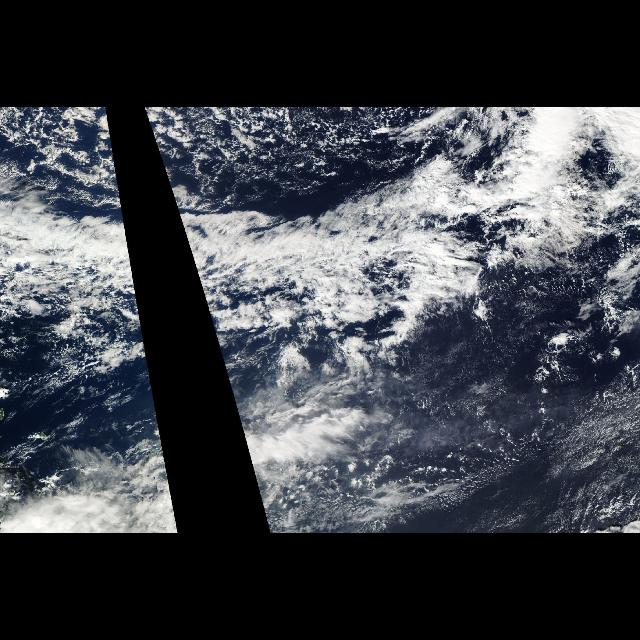Fish: (166, 174, 536, 352), (6, 174, 146, 352)
Gravel: (144, 108, 336, 210), (3, 108, 123, 210)
Sugar: (393, 379, 639, 533)
